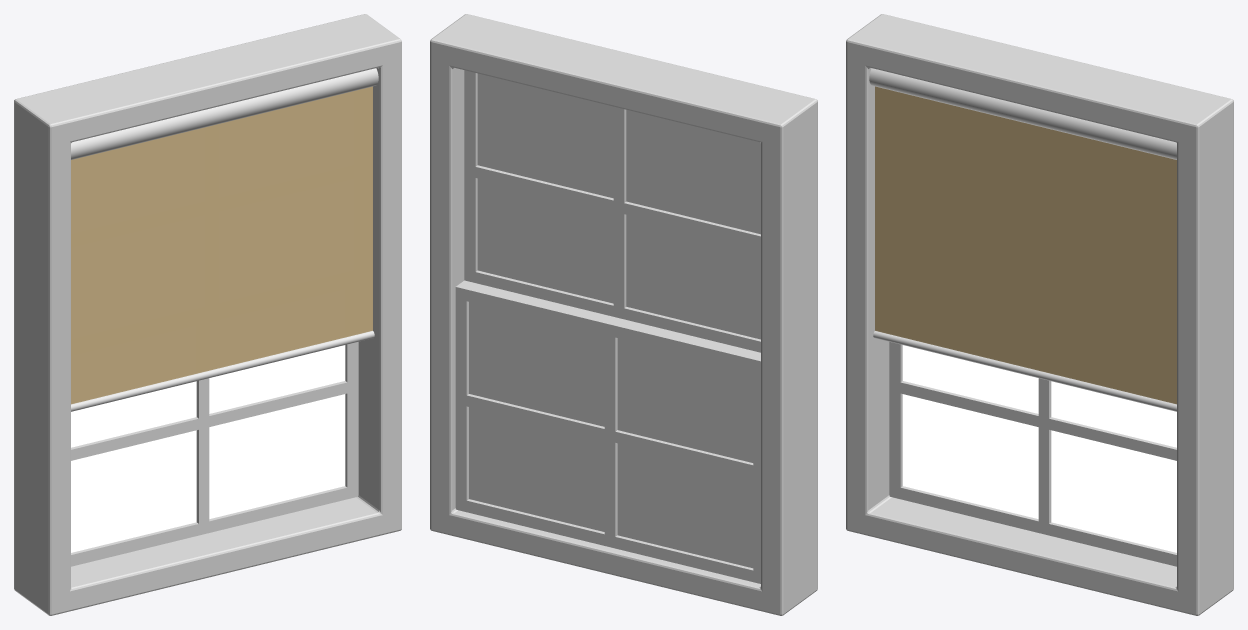
Rendered from window.glb.
The picture shows the model from 3 angles, left to right: view 1: azimuth 30°, elevation 25°; view 2: azimuth 150°, elevation 25°; view 3: azimuth 330°, elevation 25°; orthographic projection.
Visible parts, largest first — view 1: WindowFrame, WindowShutter, LowerWindow, WindowShutterTop, WindowShutterBottom; view 2: LowerWindow, WindowFrame, UpperWindow; view 3: WindowFrame, WindowShutter, LowerWindow, WindowShutterTop, WindowShutterBottom.
Part boxes in pixels (left/top/right/bottom): WindowFrame: left=14, top=14, right=401, bottom=615; WindowShutter: left=71, top=86, right=372, bottom=404; LowerWindow: left=71, top=342, right=358, bottom=566; WindowShutterTop: left=71, top=68, right=378, bottom=159; WindowShutterBottom: left=71, top=331, right=374, bottom=411; LowerWindow: left=455, top=280, right=760, bottom=583; WindowFrame: left=430, top=14, right=817, bottom=615; UpperWindow: left=464, top=70, right=760, bottom=352; WindowFrame: left=846, top=14, right=1233, bottom=615; WindowShutter: left=875, top=86, right=1176, bottom=404; LowerWindow: left=889, top=342, right=1176, bottom=566; WindowShutterTop: left=869, top=68, right=1176, bottom=159; WindowShutterBottom: left=873, top=331, right=1176, bottom=411.
Bounding box in the file's own units: 1.7 × 2.26 × 0.305.
